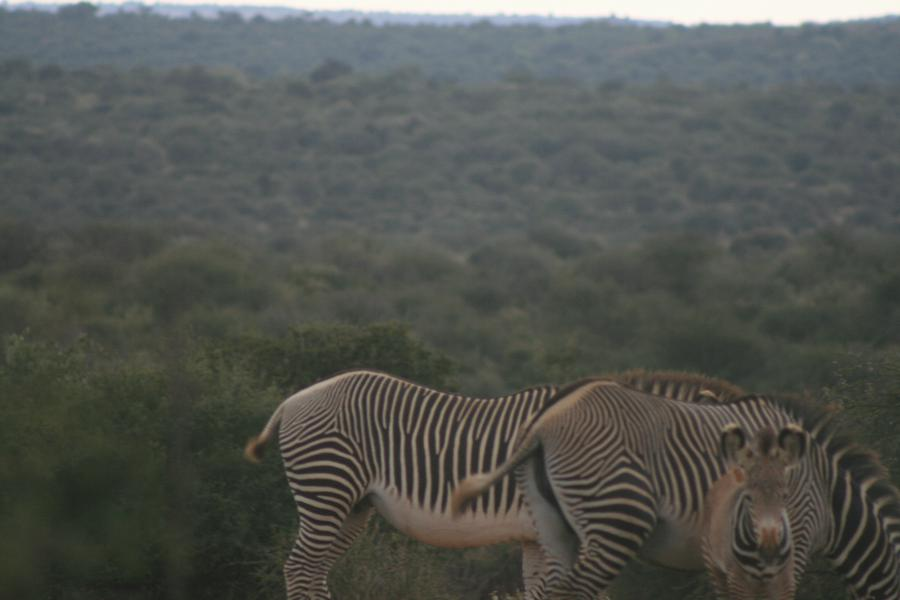zebra_grevys: (275, 338, 512, 525)
